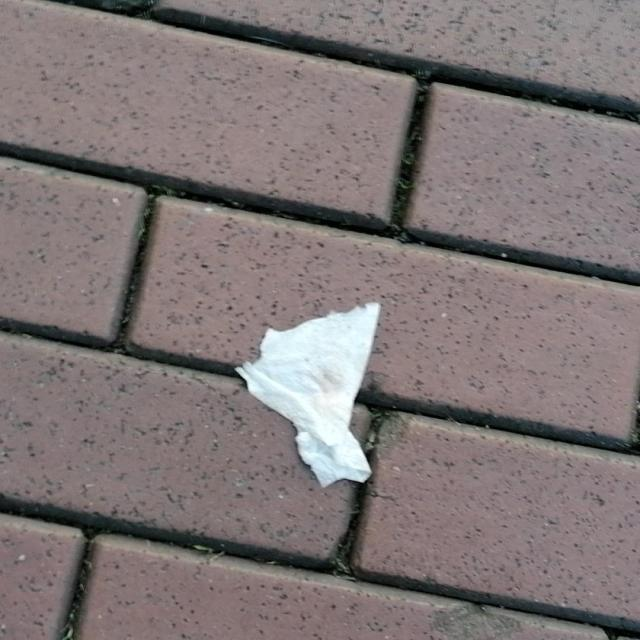Paper: (233, 301, 380, 491)
